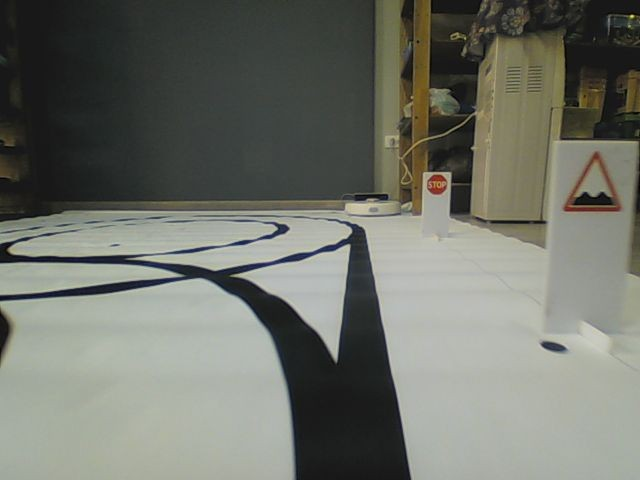Nerov: (561, 150, 623, 214)
Stop: (426, 172, 448, 196)
